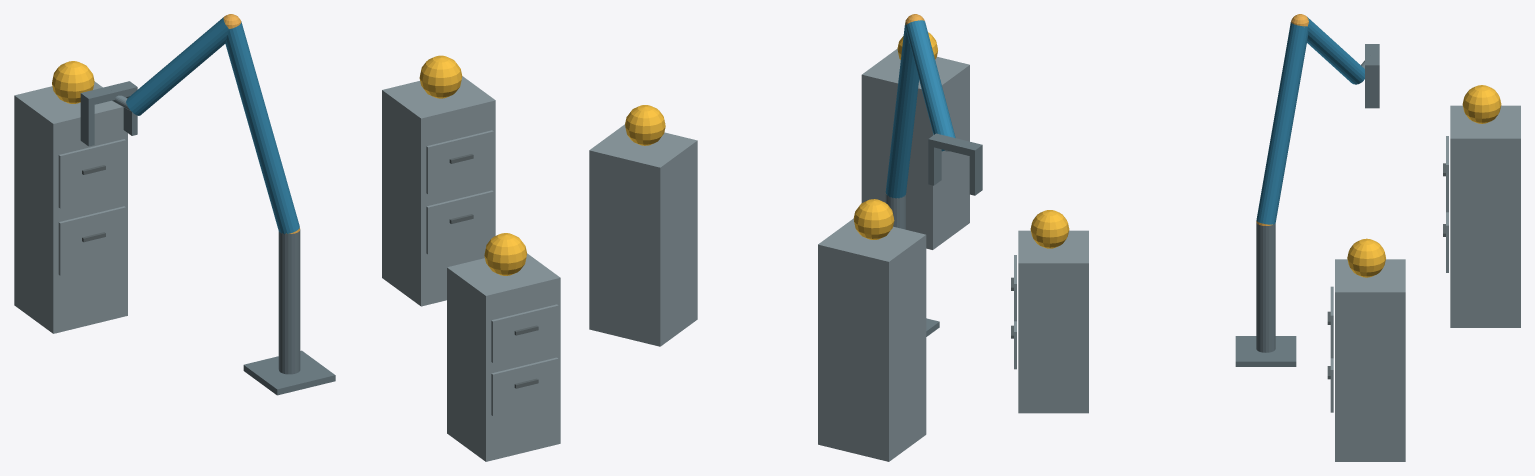
The picture shows the model from 3 angles, left to right: view 1: azimuth 30°, elevation 25°; view 2: azimuth 150°, elevation 25°; view 3: azimuth 270°, elevation 25°; orthographic projection. The views are drawn at different scales.
Visible parts, largest first — view 1: cabinet_3 body, cabinet_1 body, cabinet_2 body, moving link 1, cabinet_3 drawer front, cabinet_3 drawer front.001, cabinet_2 drawer front, cabinet_2 drawer front.001, fixed post, cabinet_1 drawer front.001, cabinet_1 drawer front, moving link 2 (+6 smaller); view 2: cabinet_3 body, cabinet_2 body, cabinet_1 body, moving link 1, moving link 2, ball ball_3, released ball_2, gripper bridge, gripper finger -1, gripper finger 1, fixed post; view 3: cabinet_3 body, cabinet_2 body, cabinet_1 body, moving link 1, fixed post, pedestal, moving link 2, ball ball_3, released ball_1, released ball_2, gripper finger 1.
Boxes of the visible parts, box(x1,y1,x2,y2) form: cabinet_3 body: box(14, 81, 127, 333); cabinet_1 body: box(447, 253, 560, 461); cabinet_2 body: box(382, 76, 495, 306); moving link 1: box(225, 22, 299, 234); cabinet_3 drawer front: box(58, 206, 125, 275); cabinet_3 drawer front.001: box(58, 139, 125, 208); cabinet_2 drawer front: box(426, 190, 493, 254); cabinet_2 drawer front.001: box(426, 130, 493, 194); fixed post: box(278, 229, 300, 374); cabinet_1 drawer front.001: box(491, 304, 558, 362); cabinet_1 drawer front: box(491, 357, 558, 415); moving link 2: box(126, 17, 229, 115); cabinet_3 body: box(818, 218, 926, 461); cabinet_2 body: box(589, 124, 697, 346); cabinet_1 body: box(861, 48, 969, 249); moving link 1: box(885, 23, 918, 198); moving link 2: box(905, 20, 955, 151); ball ball_3: box(853, 199, 894, 239); released ball_2: box(625, 105, 665, 145); gripper bridge: box(928, 133, 982, 157); gripper finger -1: box(969, 152, 982, 195); gripper finger 1: box(928, 146, 941, 185); fixed post: box(885, 193, 905, 229); cabinet_3 body: box(1450, 105, 1520, 327); cabinet_2 body: box(1335, 259, 1405, 461); cabinet_1 body: box(1018, 230, 1088, 413); moving link 1: box(1256, 22, 1308, 224); fixed post: box(1256, 222, 1275, 352); pedestal: box(1235, 336, 1296, 366); moving link 2: box(1307, 17, 1364, 84); ball ball_3: box(1462, 85, 1501, 123); released ball_1: box(1030, 210, 1069, 248); released ball_2: box(1347, 238, 1385, 277); gripper finger 1: box(1365, 72, 1379, 108).
Size of the model in its own units: 1.67 by 1.46 by 2.1.
